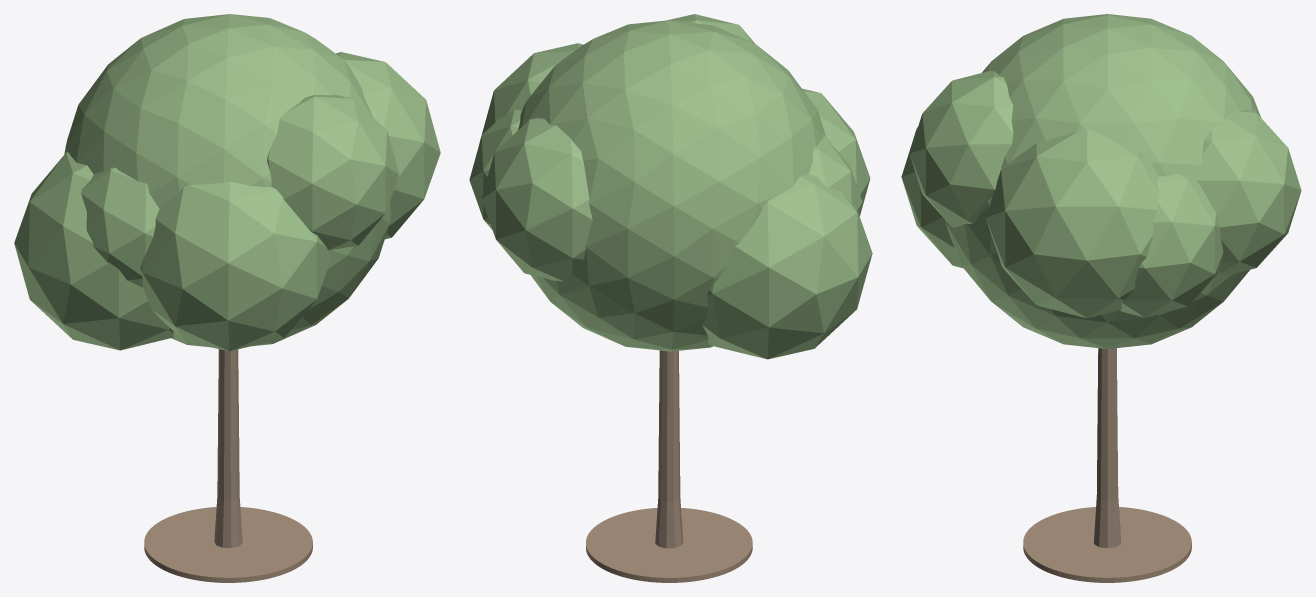
The model's file is tree.glb.
The picture shows the model from 3 angles, left to right: view 1: azimuth 30°, elevation 25°; view 2: azimuth 150°, elevation 25°; view 3: azimuth 270°, elevation 25°; orthographic projection.
Parts seen in each view (by area): view 1: tree_leaf, tree_mulch, tree_bark; view 2: tree_leaf, tree_mulch, tree_bark; view 3: tree_leaf, tree_mulch, tree_bark.
Part boxes in pixels (x1,y1,x2,y2): tree_leaf: (14, 14, 440, 351); tree_mulch: (144, 507, 312, 582); tree_bark: (214, 349, 242, 547); tree_leaf: (469, 14, 872, 359); tree_mulch: (586, 508, 752, 582); tree_bark: (655, 350, 683, 548); tree_leaf: (901, 14, 1301, 348); tree_mulch: (1023, 507, 1191, 582); tree_bark: (1094, 348, 1120, 548).
Bounding box in the file's own units: 3.94 × 5.09 × 3.56.
